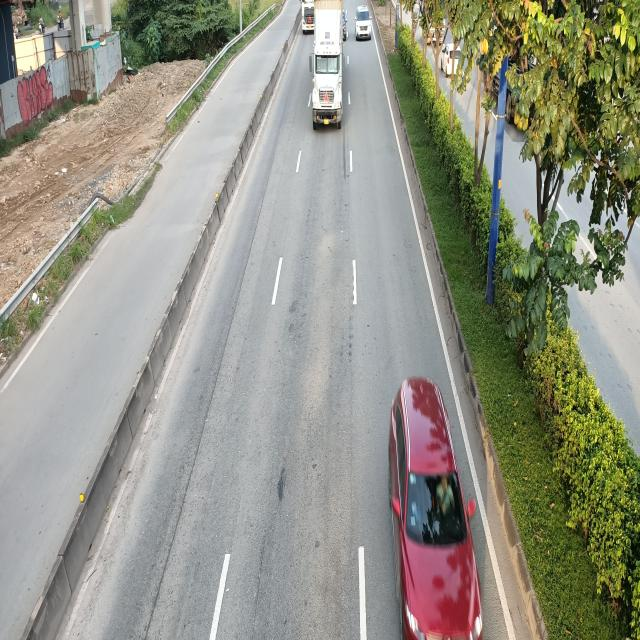car: (386, 374, 486, 636), (354, 6, 370, 40)
container: (310, 0, 344, 130), (301, 0, 319, 33)
